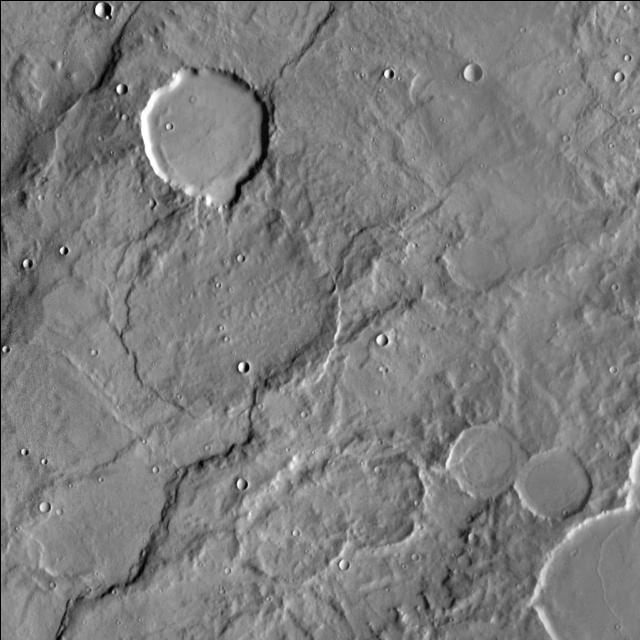crater: (125, 212, 325, 412), (340, 302, 502, 464), (133, 66, 266, 198), (532, 511, 640, 640), (231, 475, 339, 583), (442, 424, 516, 498), (512, 446, 586, 519), (442, 231, 502, 291), (194, 168, 237, 211), (261, 0, 291, 26), (458, 62, 476, 78), (89, 1, 105, 17), (369, 334, 382, 346), (110, 82, 122, 94), (232, 360, 244, 371), (33, 500, 44, 511), (334, 562, 344, 572), (608, 72, 618, 82), (378, 68, 388, 78), (16, 256, 26, 266), (232, 478, 242, 488), (54, 244, 62, 253), (231, 255, 239, 263), (406, 553, 414, 561), (116, 112, 124, 120), (611, 356, 619, 364), (374, 458, 382, 466), (22, 438, 29, 446), (626, 47, 634, 54), (225, 558, 232, 566), (92, 341, 99, 348), (42, 450, 49, 457), (168, 114, 175, 121), (565, 126, 572, 133), (597, 433, 604, 440), (560, 80, 566, 88), (58, 499, 64, 506), (613, 276, 620, 282), (470, 526, 477, 532), (50, 574, 56, 580), (154, 459, 160, 465), (39, 186, 45, 192), (302, 403, 308, 409)
